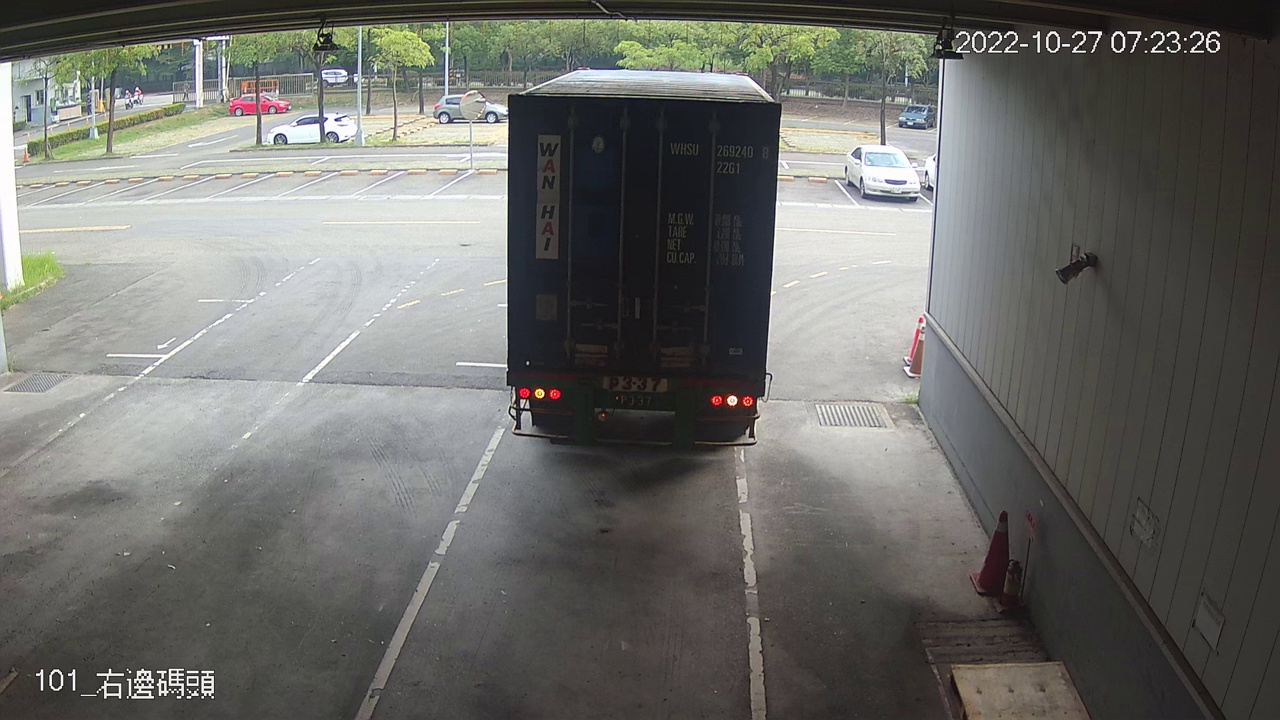container: (664, 133, 776, 180)
